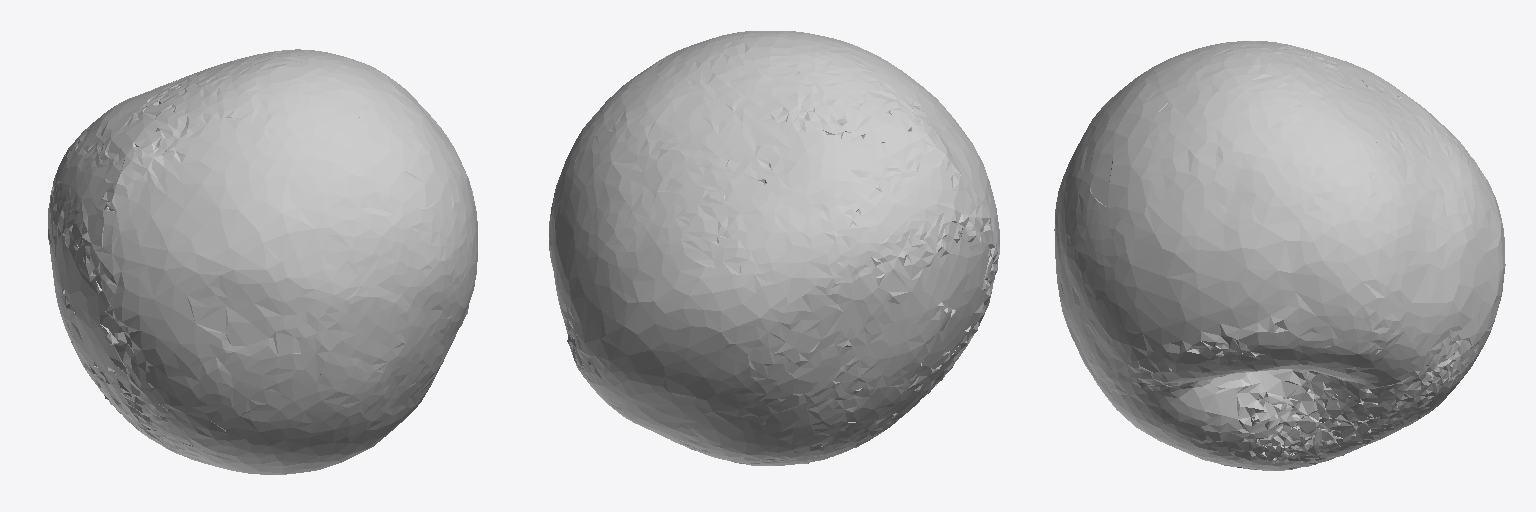
Rendered from peach1.obj.
3 renders of one model, left to right at view 1: azimuth 30°, elevation 25°; view 2: azimuth 150°, elevation 25°; view 3: azimuth 270°, elevation 25°, orthographic.
Parts seen in each view (by area): view 1: Peach; view 2: Peach; view 3: Peach.
Part boxes in pixels (left/top/right/bottom): Peach: left=48, top=49, right=477, bottom=474; Peach: left=549, top=31, right=999, bottom=465; Peach: left=1054, top=41, right=1505, bottom=470.
Bounding box in the file's own units: 3.3 × 3.26 × 3.39.